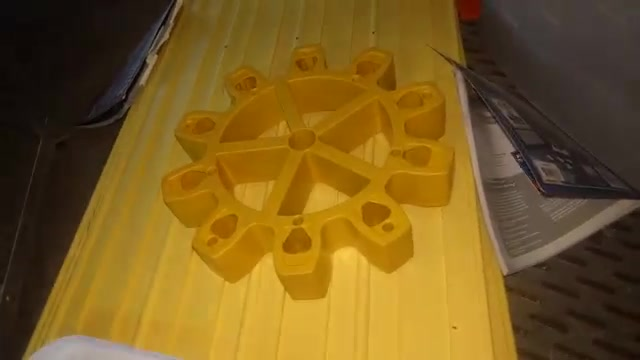gear: (147, 40, 460, 293)
